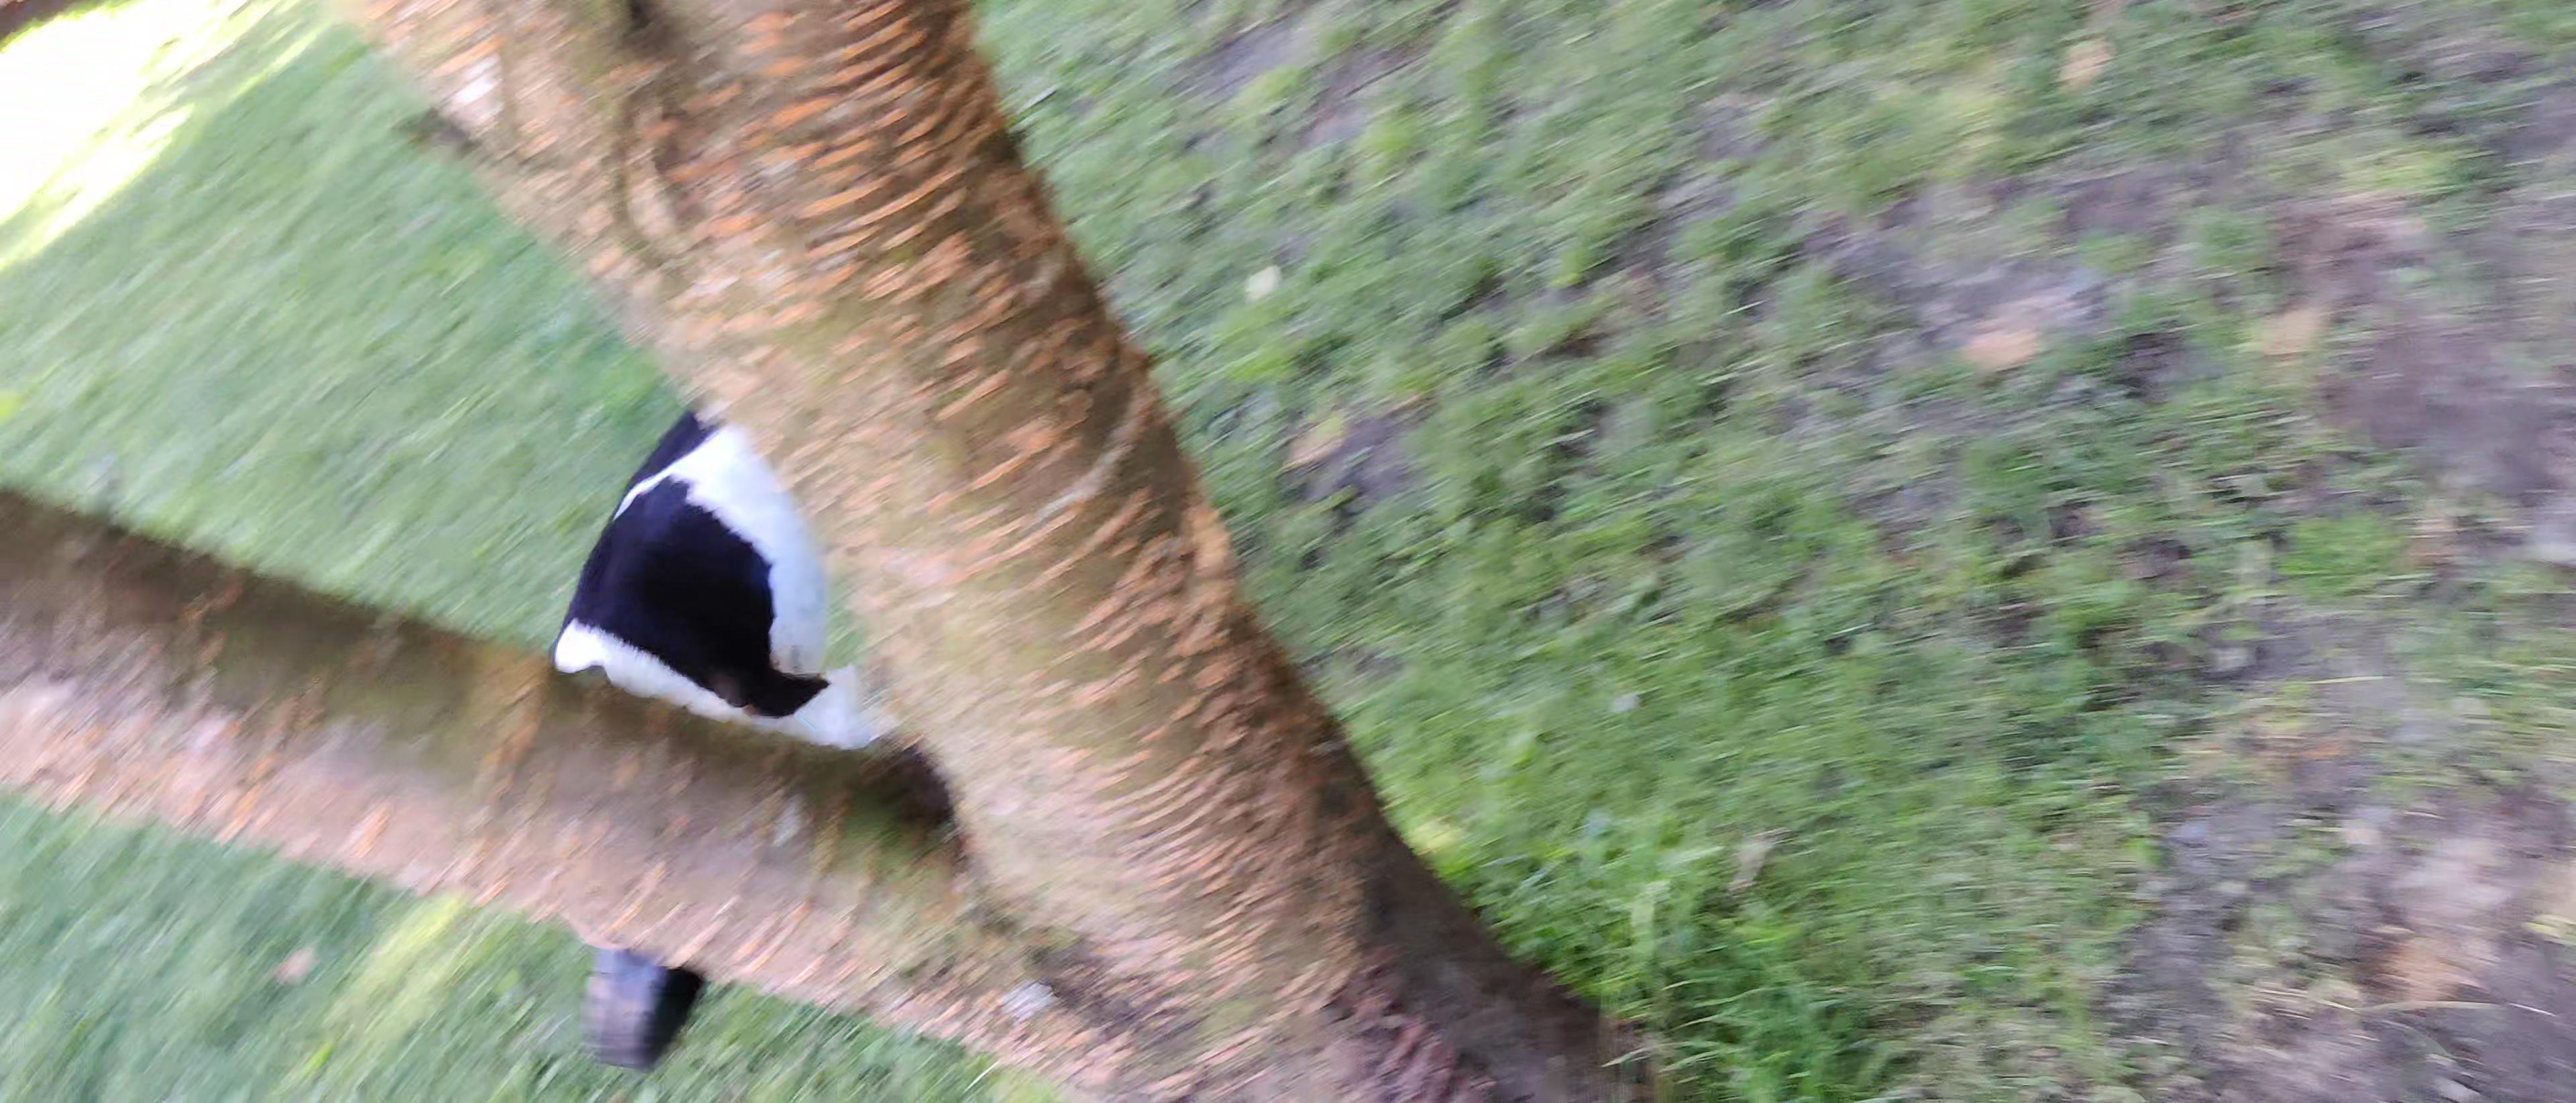Dog: (435, 375, 964, 1083)
